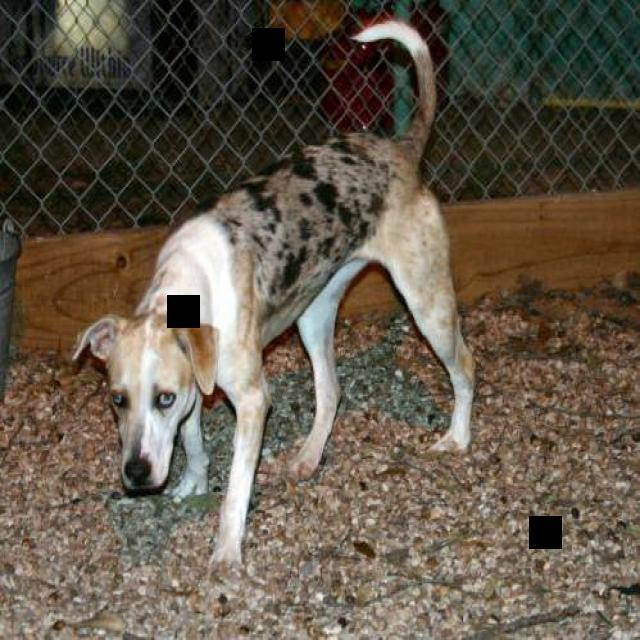adult_dog: (74, 13, 483, 578)
